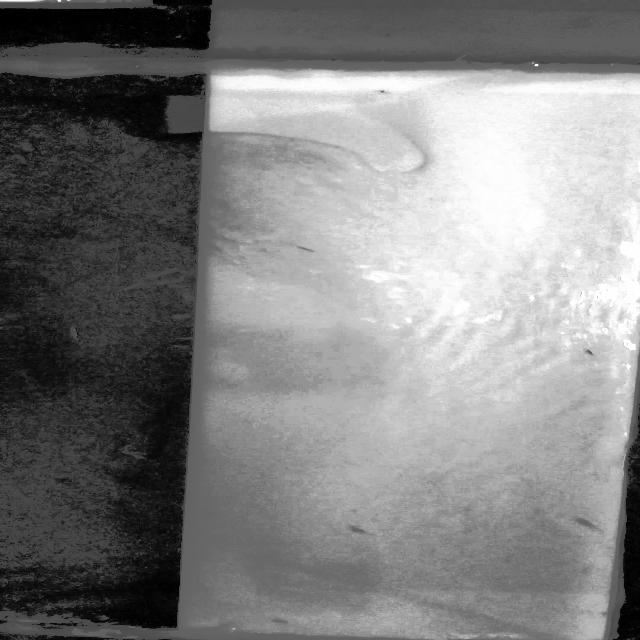shrimp: (340, 524, 373, 538), (580, 346, 601, 359), (576, 518, 593, 528)
